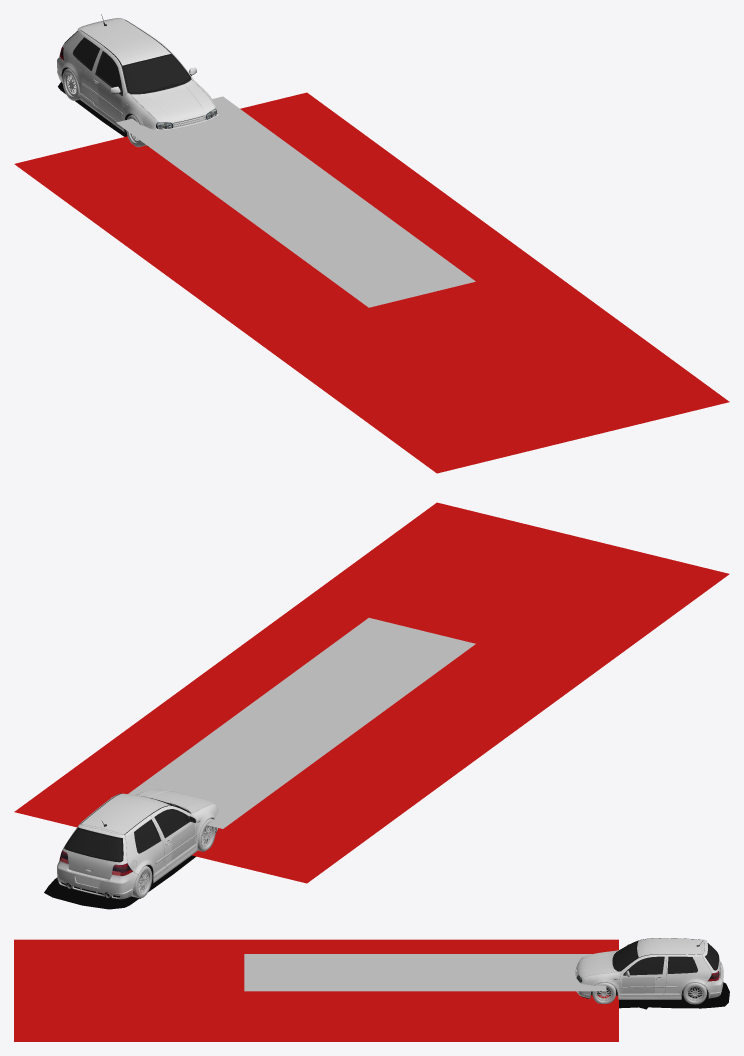
File: car1.fbx
The picture shows the model from 3 angles, top to bottom: view 1: azimuth 30°, elevation 25°; view 2: azimuth 150°, elevation 25°; view 3: azimuth 270°, elevation 25°; orthographic projection. The views are drawn at different scales.
Visible parts, largest first — view 1: light_ground, far_lights, golf_r32; view 2: light_ground, far_lights, golf_r32, shadow_car; view 3: light_ground, far_lights, golf_r32, shadow_car, decalSide, wheel_RL, wheel_FL.
Boxes of the visible parts, <box> form: light_ground: <box>14,92,729,473</box>; far_lights: <box>116,96,475,307</box>; golf_r32: <box>57,14,218,146</box>; light_ground: <box>14,502,729,883</box>; far_lights: <box>128,618,475,828</box>; golf_r32: <box>57,789,218,899</box>; shadow_car: <box>44,855,195,909</box>; light_ground: <box>14,939,618,1041</box>; far_lights: <box>244,954,606,991</box>; golf_r32: <box>575,938,723,999</box>; shadow_car: <box>619,982,729,1009</box>; decalSide: <box>622,977,654,993</box>; wheel_RL: <box>683,983,706,1004</box>; wheel_FL: <box>592,982,615,1003</box>.
Bounding box in the file's own units: 46.54 × 10.99 × 138.
